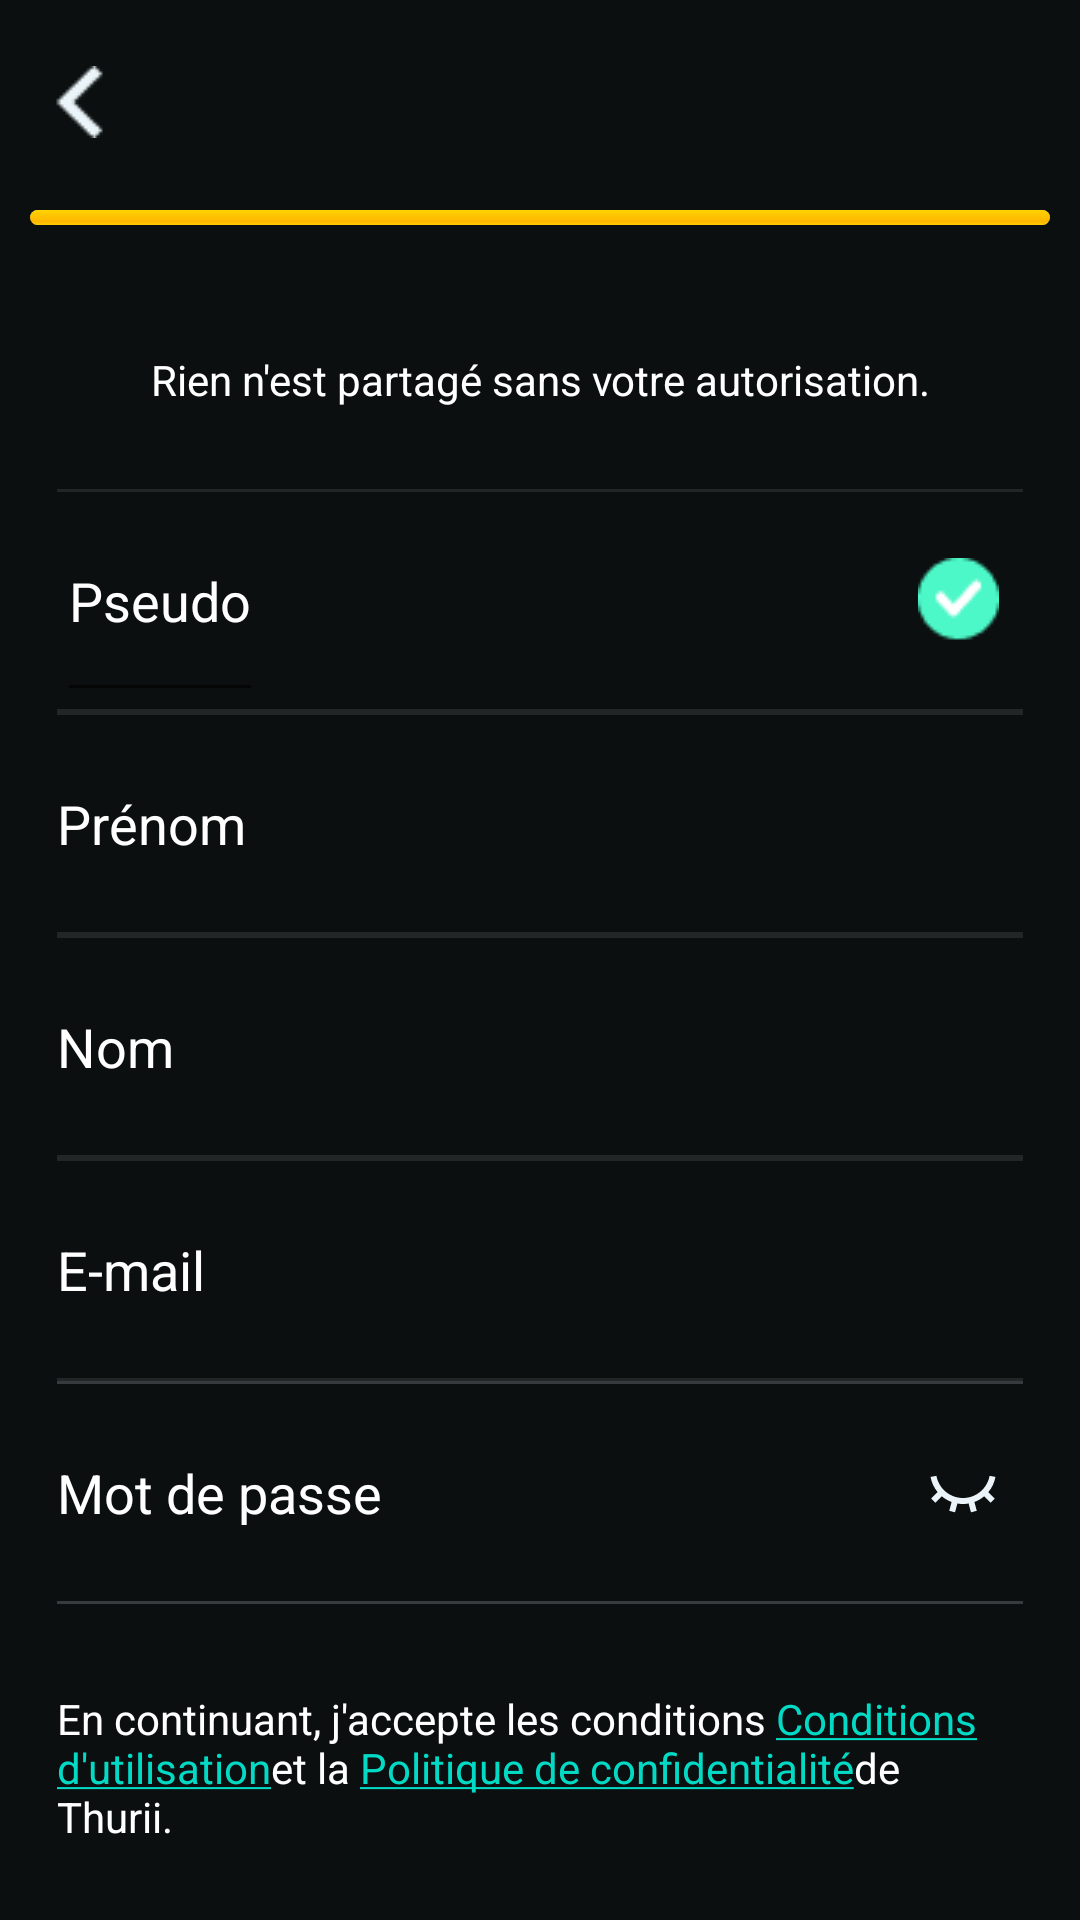

Screen size 1080 x 1920. Icon name, then its box in pixels as bbox=[x1, y1, x2, y2]:
Bouton Retour: bbox=[56, 66, 103, 138]
checked: bbox=[918, 558, 999, 640]
eye close line: bbox=[930, 1476, 996, 1513]
